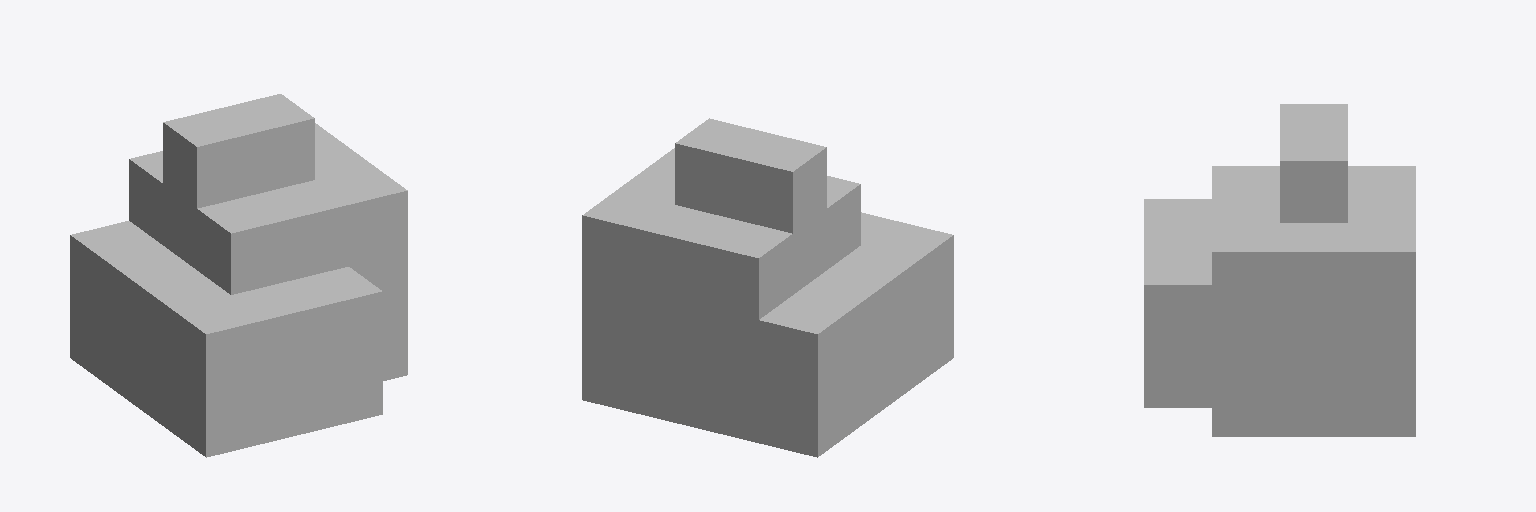
File: rock.obj
The picture shows the model from 3 angles: view 1: azimuth 30°, elevation 25°; view 2: azimuth 150°, elevation 25°; view 3: azimuth 270°, elevation 25°; orthographic projection.
Visible parts, largest first — view 1: object 1; view 2: object 1; view 3: object 1.
Boxes of the visible parts, box(x1,y1,x2,y2) form: object 1: box(70, 94, 407, 457); object 1: box(582, 118, 953, 457); object 1: box(1144, 104, 1415, 436).
Bounding box in the file's own units: 0.4 × 0.4 × 0.4.